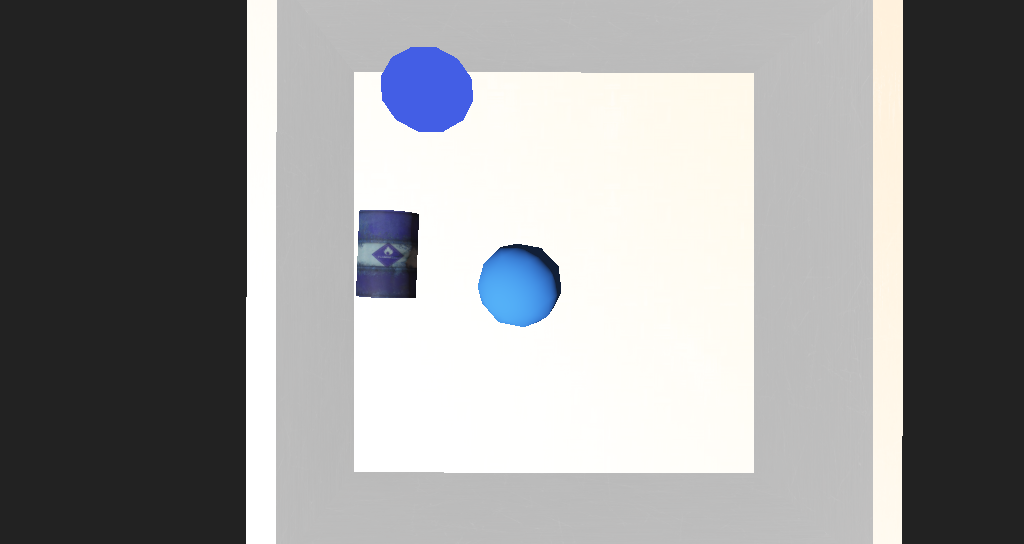cone: (350, 234, 404, 282)
cylinder: (357, 148, 451, 215)
sphere: (445, 255, 512, 298)
